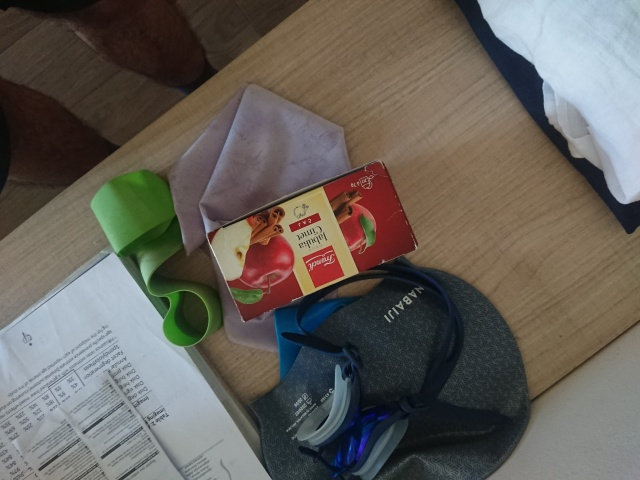Franck Apple Cinnamon Tea 60g: (203, 157, 419, 325)
